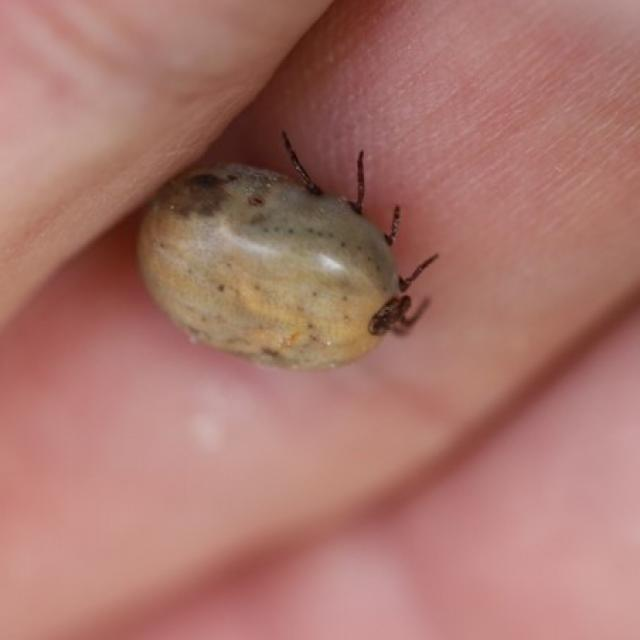Dermacentor Reticulatus-F-Fed: (137, 130, 440, 370)
